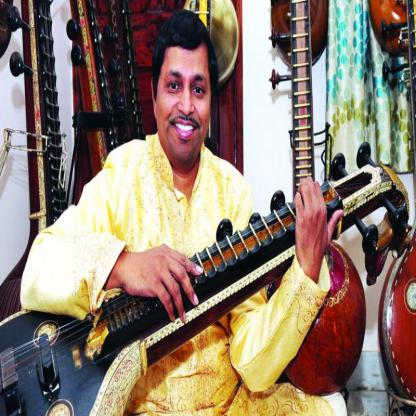Veena: (1, 226, 279, 408)
